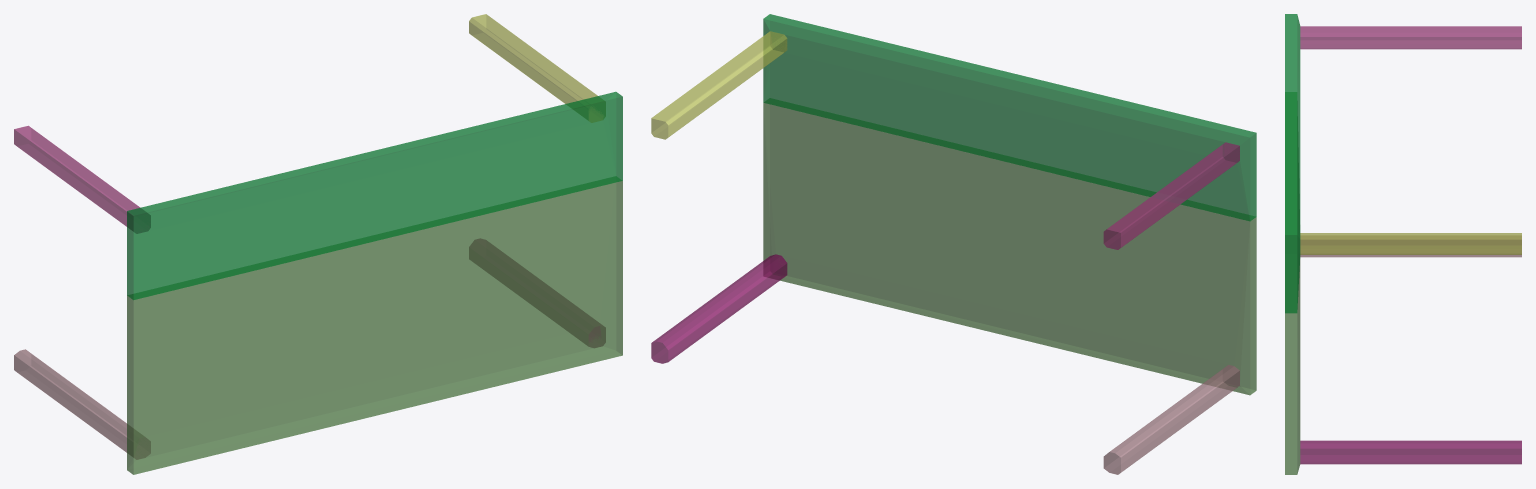
Rendered from big_table_1_translated.obj.
3 renders of one model, left to right at view 1: azimuth 30°, elevation 25°; view 2: azimuth 150°, elevation 25°; view 3: azimuth 270°, elevation 25°, orthographic. The views are drawn at different scales.
Parts seen in each view (by area): view 1: Shape_IndexedFaceSet.001_Shape_IndexedFaceSet.146; view 2: Shape_IndexedFaceSet.001_Shape_IndexedFaceSet.146; view 3: Shape_IndexedFaceSet.001_Shape_IndexedFaceSet.146.
Part boxes in pixels (bbox=[...]): Shape_IndexedFaceSet.001_Shape_IndexedFaceSet.146: bbox=[14, 14, 622, 474]; Shape_IndexedFaceSet.001_Shape_IndexedFaceSet.146: bbox=[651, 14, 1256, 474]; Shape_IndexedFaceSet.001_Shape_IndexedFaceSet.146: bbox=[1285, 14, 1521, 474].
Bounding box in the file's own units: 1.61 × 0.8142 × 0.729.
